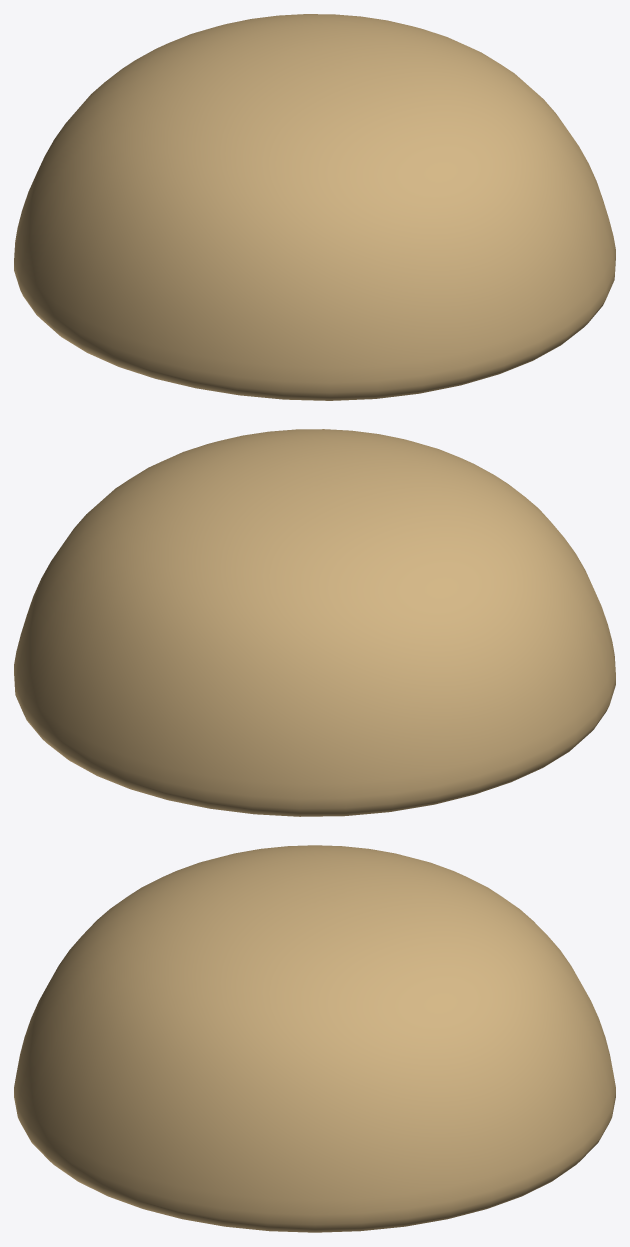
The model's file is Bread_top.fbx.
3 views of the same model, one above another, from view 1: azimuth 30°, elevation 25°; view 2: azimuth 150°, elevation 25°; view 3: azimuth 270°, elevation 25° (orthographic).
Visible parts, largest first — view 1: pSphere2; view 2: pSphere2; view 3: pSphere2.
Boxes of the visible parts, left/top/right/bottom form: pSphere2: left=14, top=14, right=615, bottom=400; pSphere2: left=14, top=429, right=615, bottom=816; pSphere2: left=14, top=845, right=615, bottom=1232.
Size of the model in its own units: 3.92 by 1.59 by 3.92.
